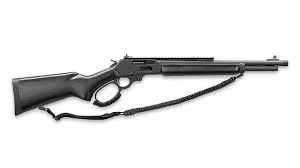gun: (12, 51, 289, 117)
